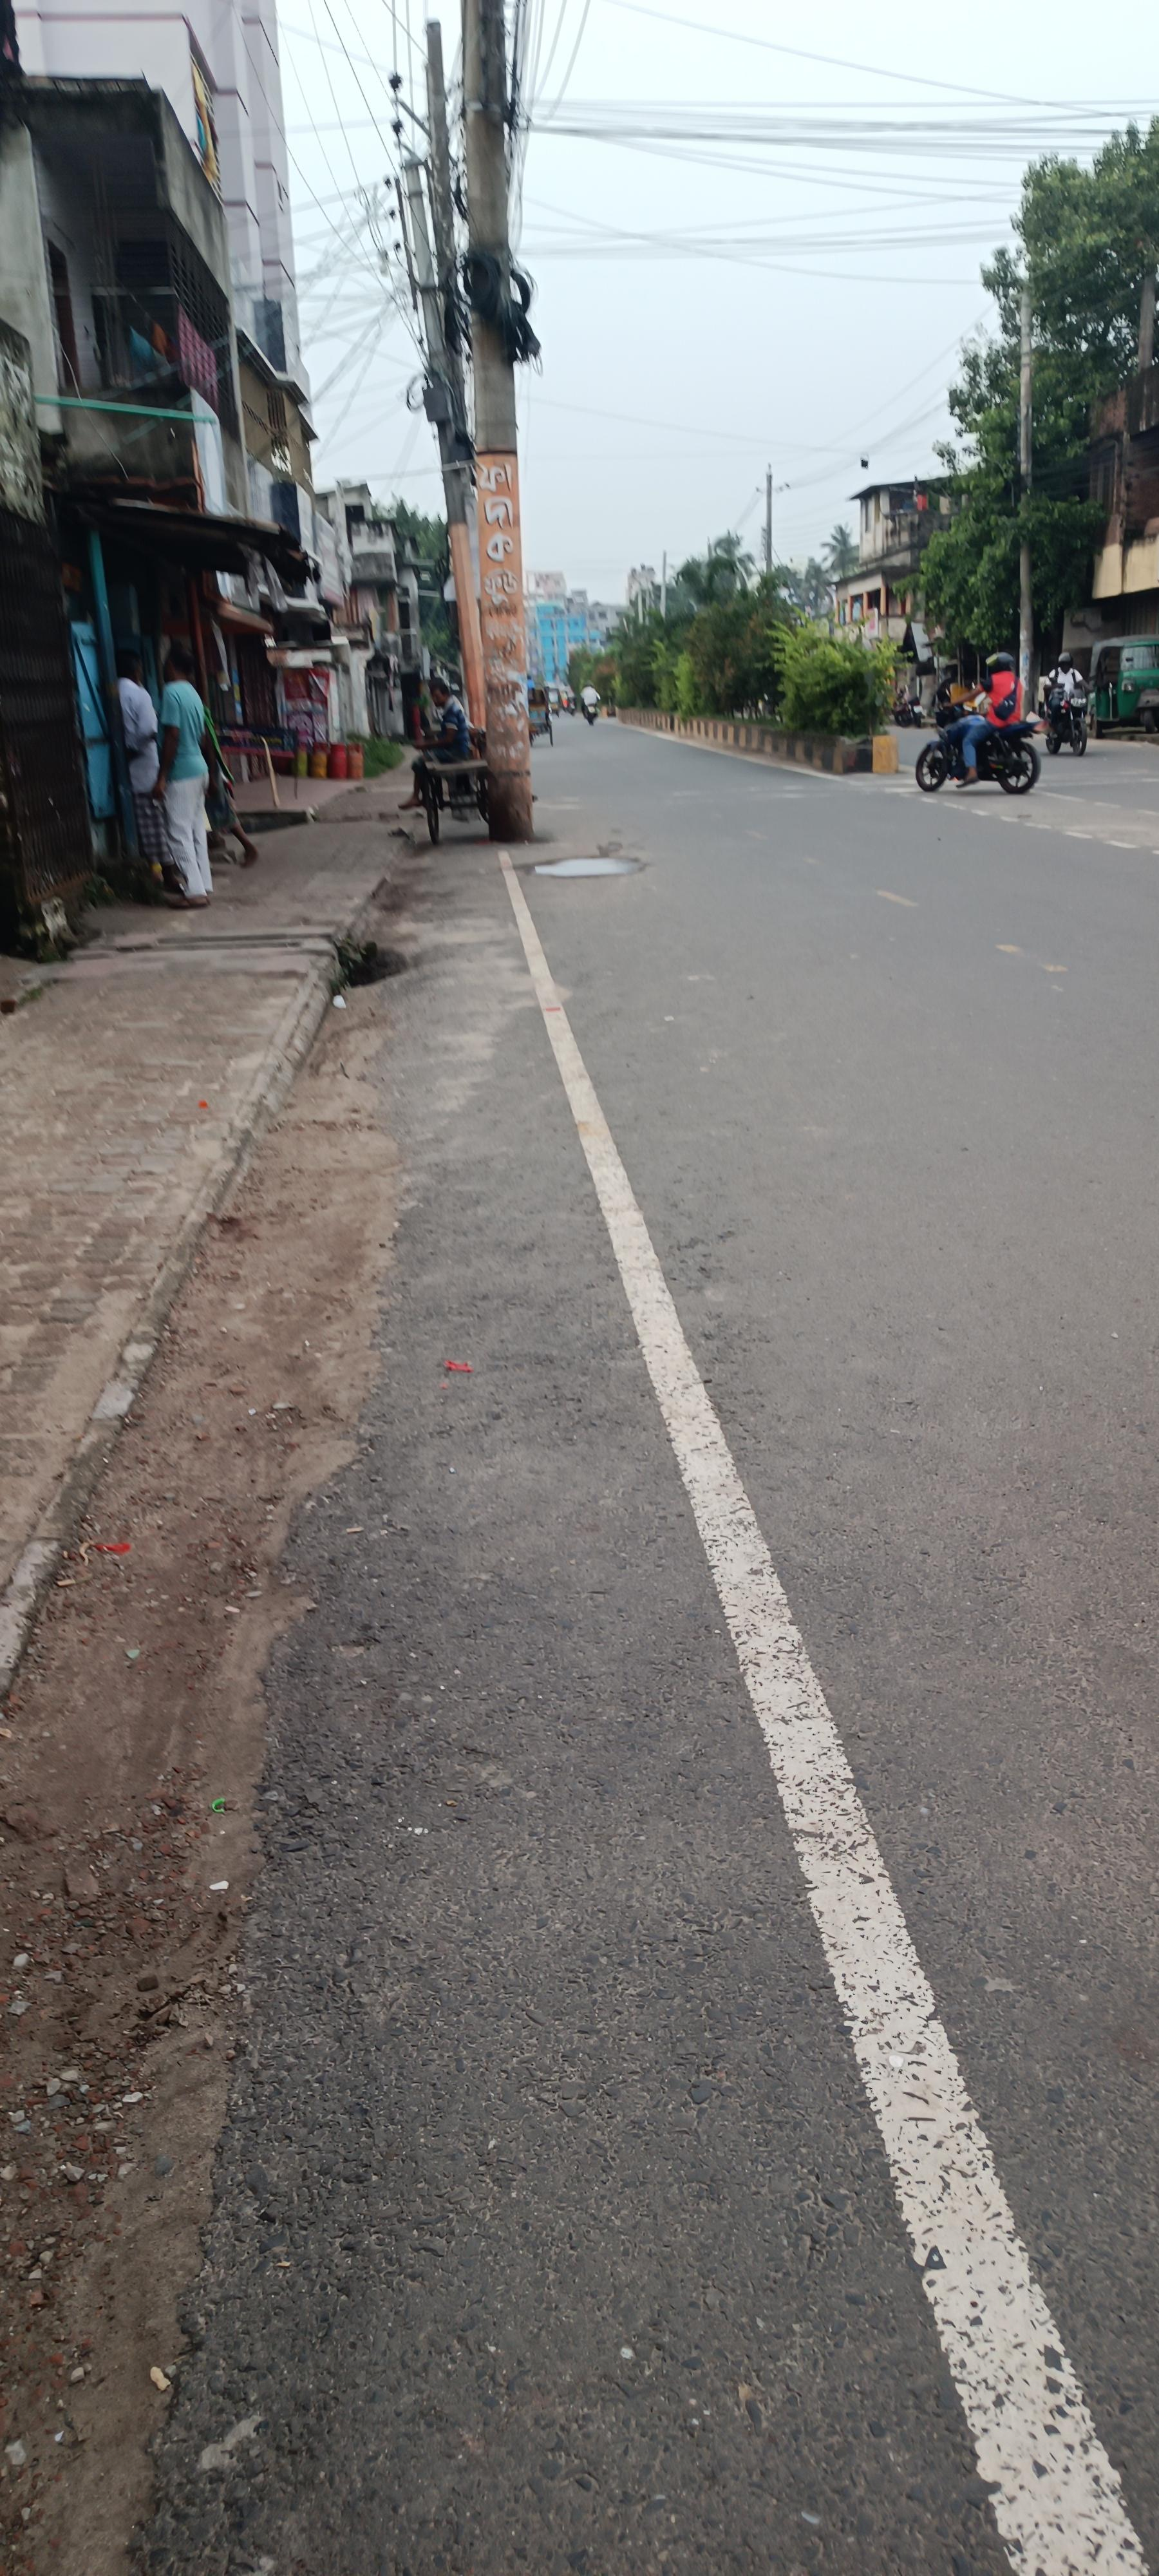Fallen-tree: (916, 698, 1042, 793), (1041, 677, 1092, 754)
Garbage-bin: (154, 646, 218, 907), (112, 647, 172, 894), (952, 652, 1026, 784), (399, 677, 471, 810)
Light-pole: (407, 64, 560, 882)
Motorcycle: (315, 915, 432, 1030)
Pothole: (0, 928, 335, 2086)
Traffic-cone: (1088, 634, 1159, 738)
